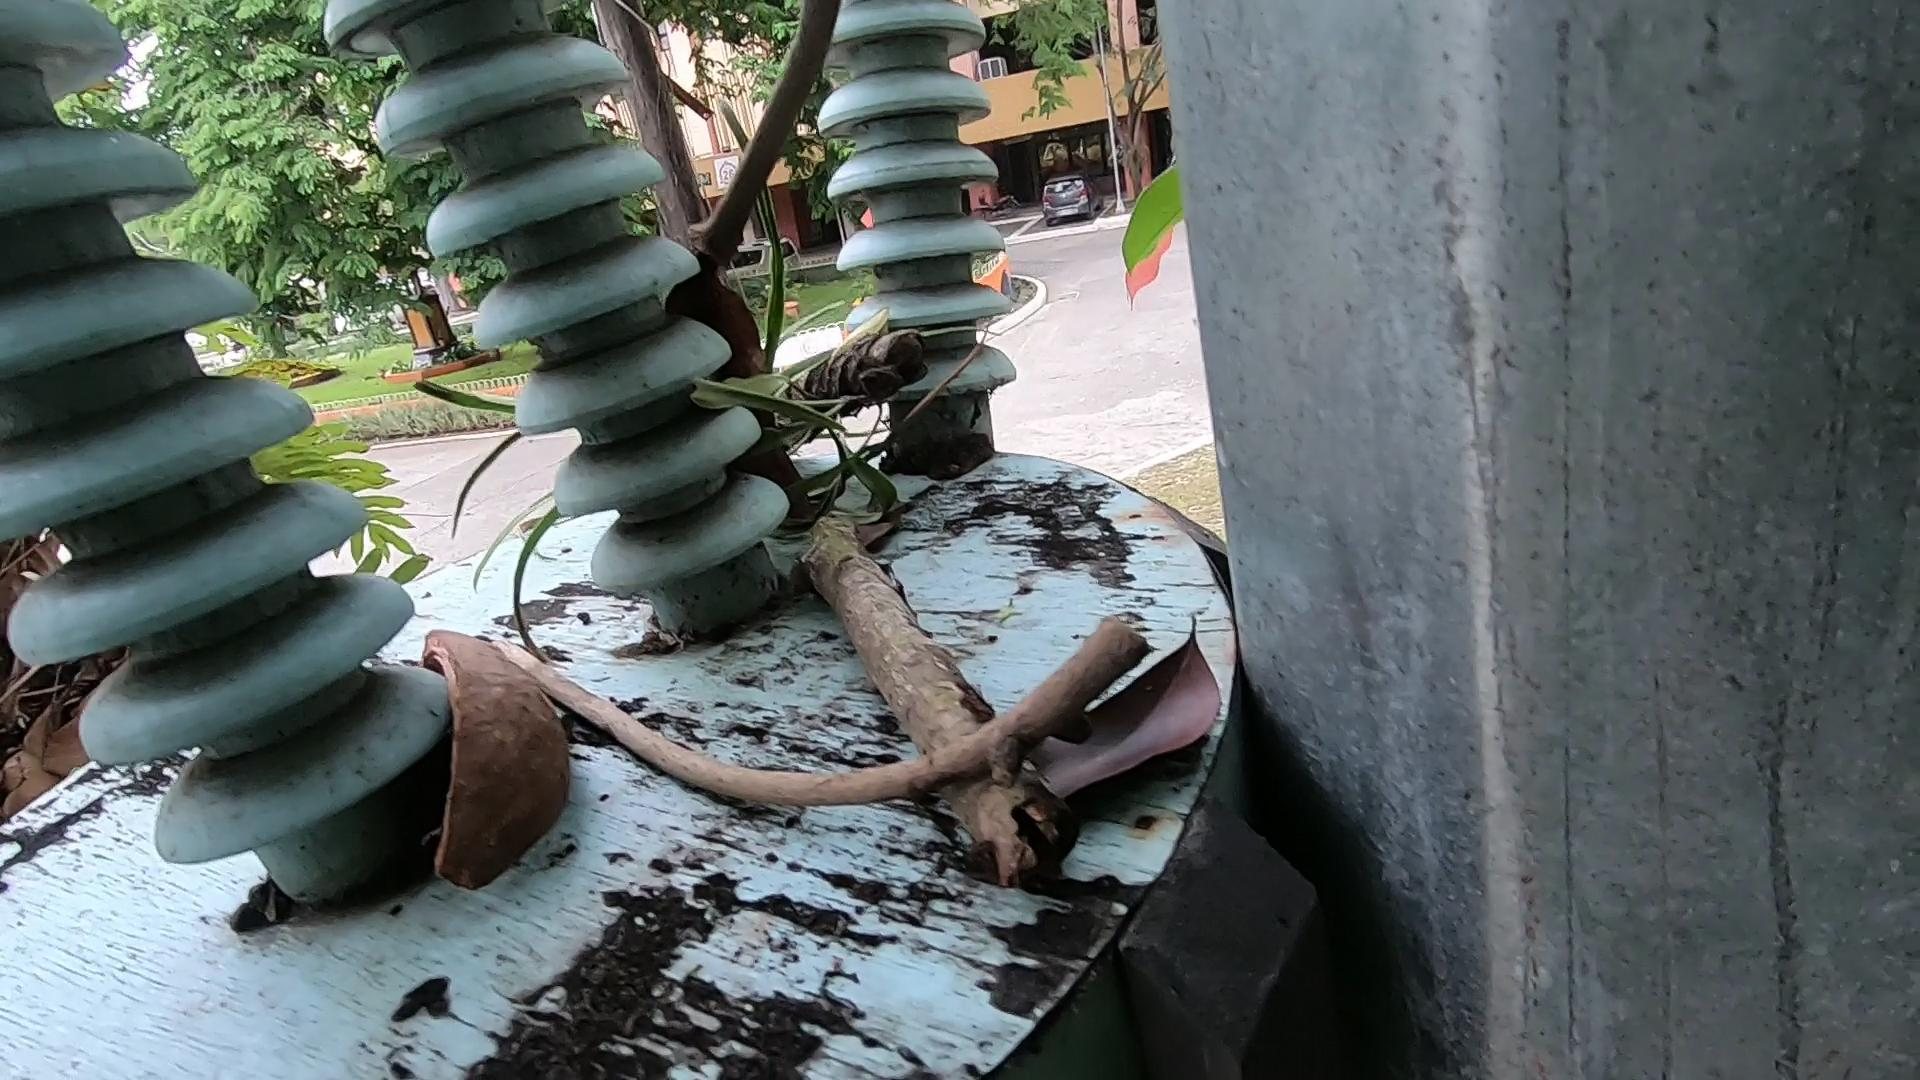branch with leaves: (752, 287, 1036, 851)
leaf: (1015, 564, 1203, 832)
mahogany fruit: (376, 585, 585, 849)
tree branch: (451, 542, 1110, 901), (676, 1, 799, 334)
